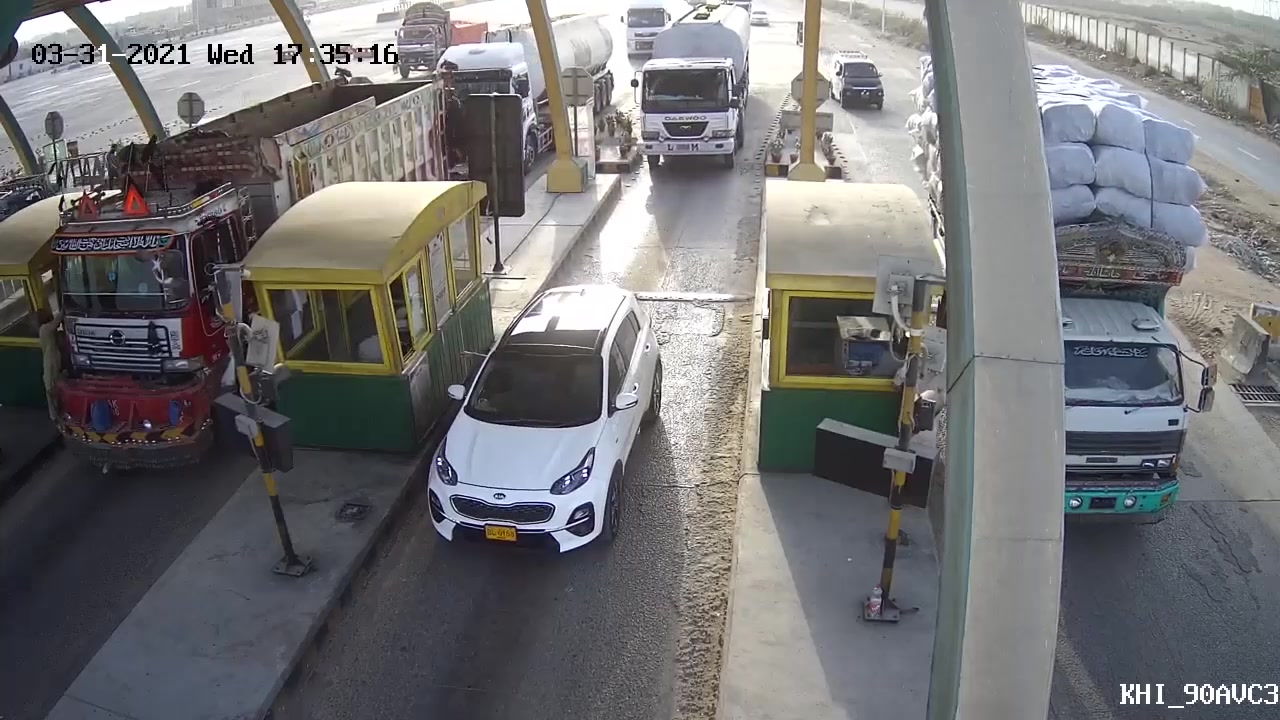F1: (426, 278, 665, 573)
